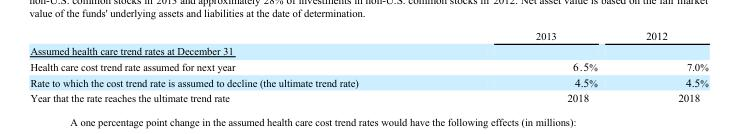table: (29, 29, 707, 103)
table column: (29, 29, 446, 103), (446, 29, 620, 103), (620, 29, 707, 103)
table column header: (29, 29, 707, 43)
table projected row header: (29, 43, 707, 58)
table row: (29, 58, 707, 74), (29, 43, 707, 58), (29, 74, 707, 89), (29, 29, 707, 43), (29, 89, 707, 103)
